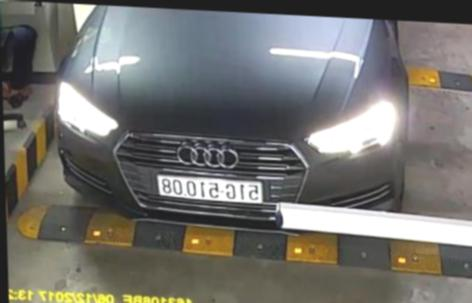License_Plate: (148, 166, 271, 210)
